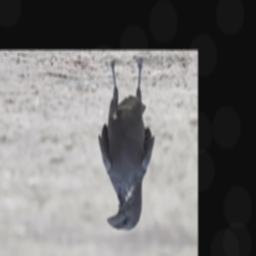Crow: (97, 56, 156, 232)
